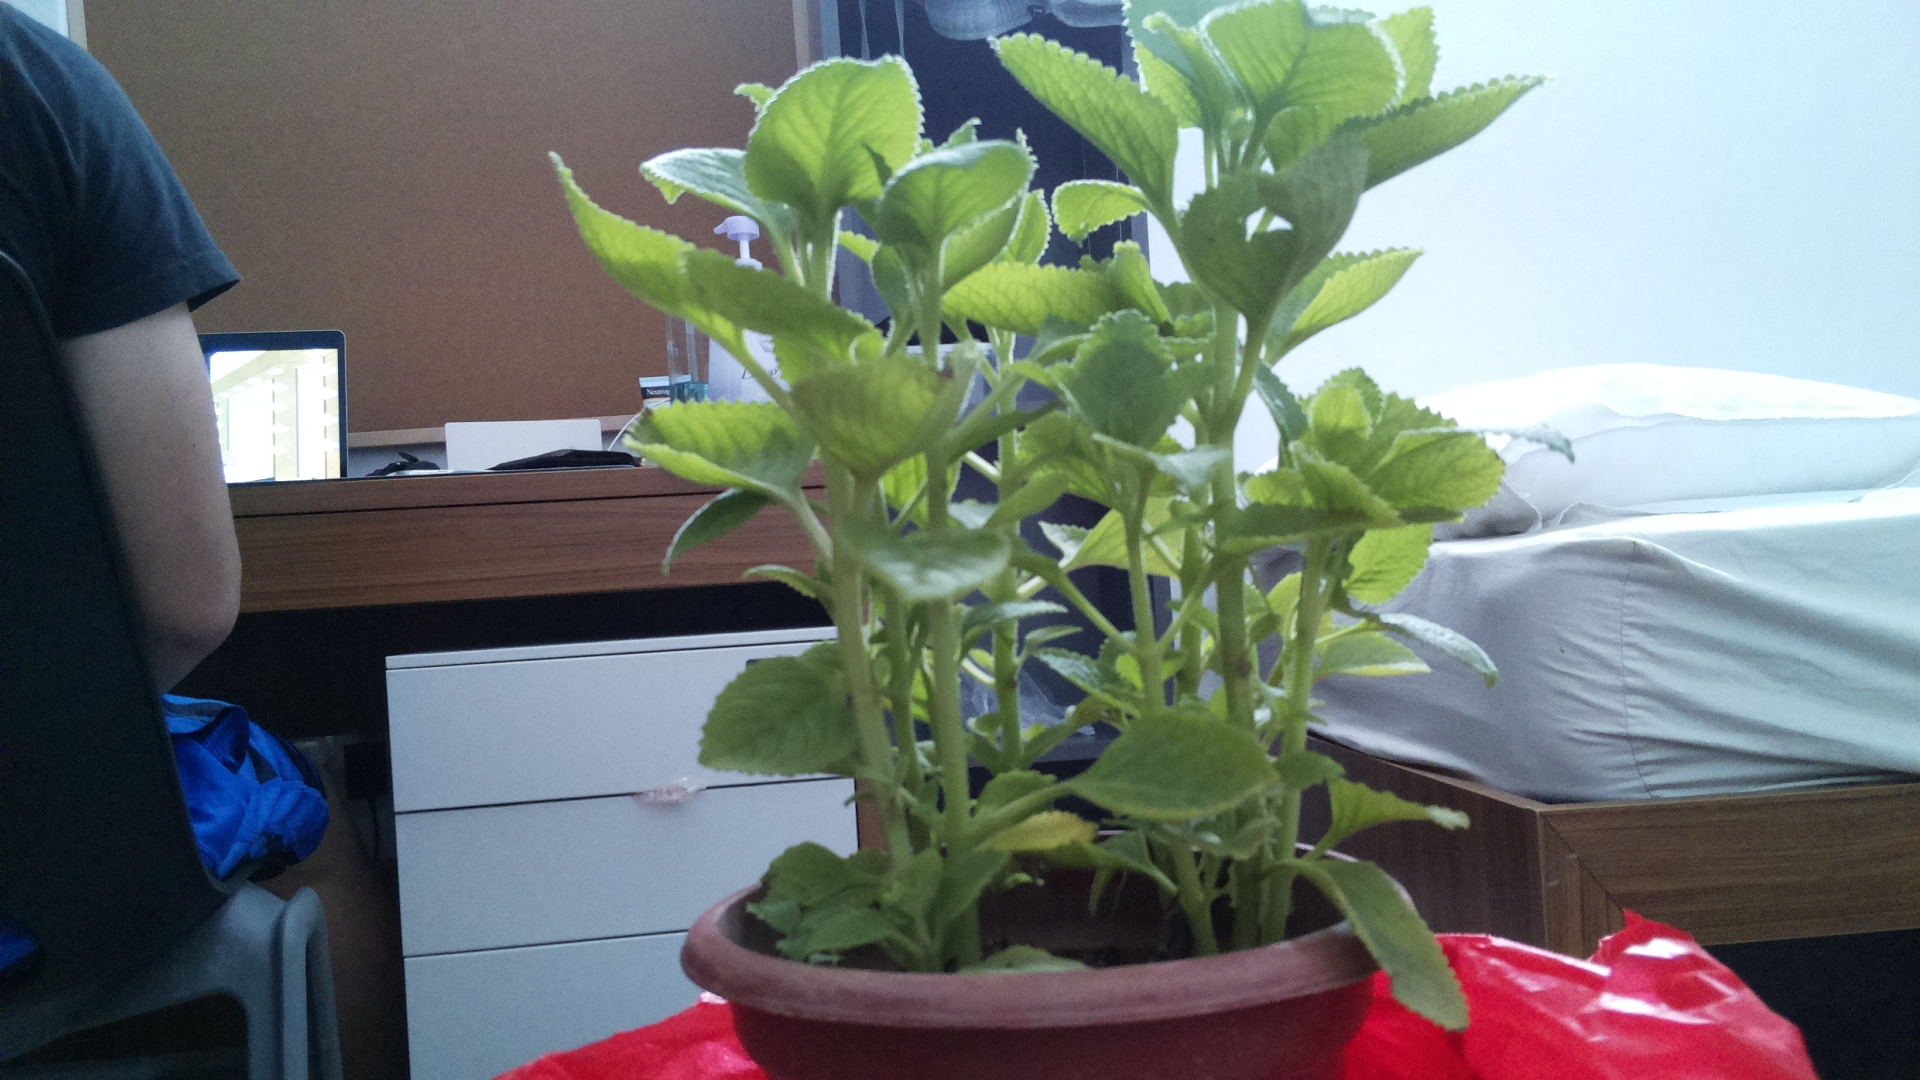leaf: (1280, 839, 1480, 1048), (980, 25, 1184, 214), (741, 45, 942, 227), (1176, 148, 1369, 330), (1187, 7, 1411, 149), (680, 642, 884, 781), (556, 162, 713, 331), (688, 245, 893, 367), (812, 338, 976, 487), (829, 501, 1023, 618), (626, 382, 825, 491), (1361, 409, 1600, 498), (1091, 713, 1284, 819), (1067, 315, 1189, 454), (1367, 589, 1511, 694), (1313, 764, 1472, 841)
